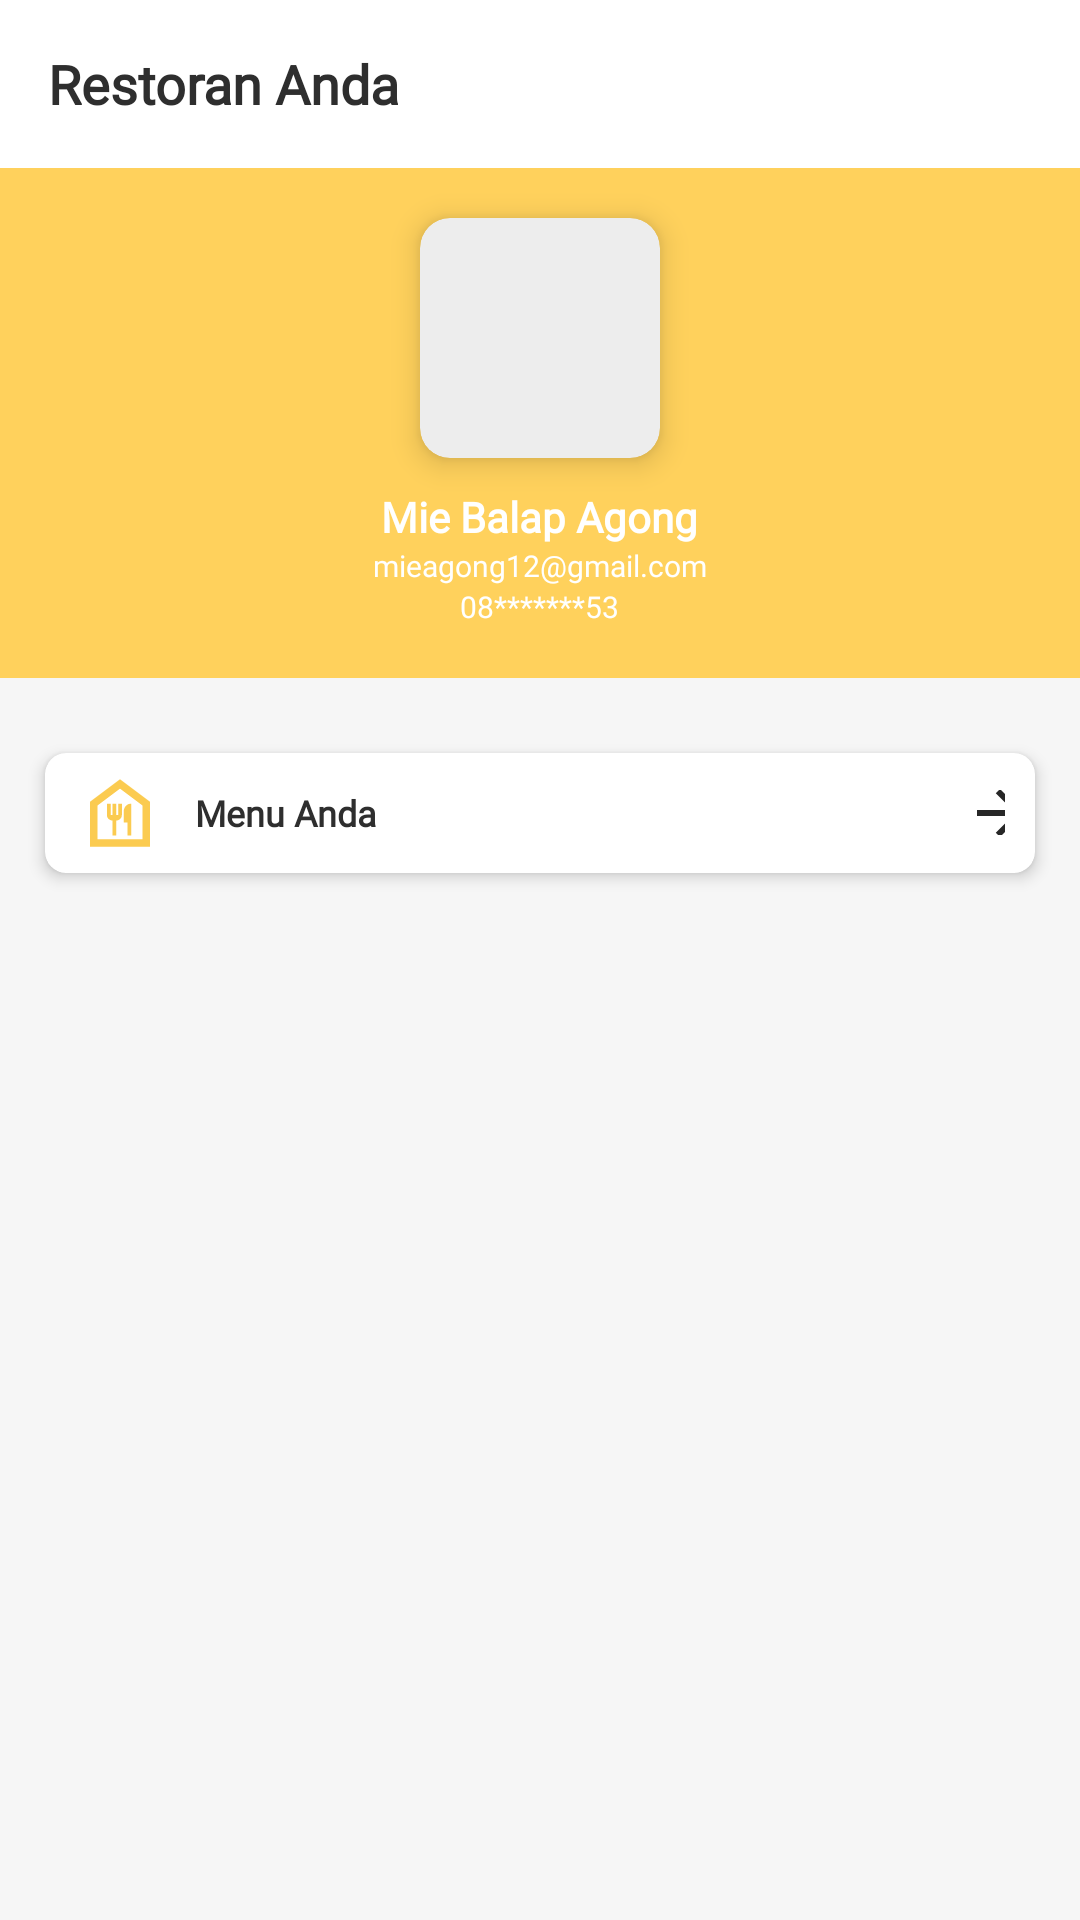

Named icons in this screenshot (1080*1920) and their bounding boxes, (x1, y1, x2, y2):
restoran: (90, 779, 150, 847)
